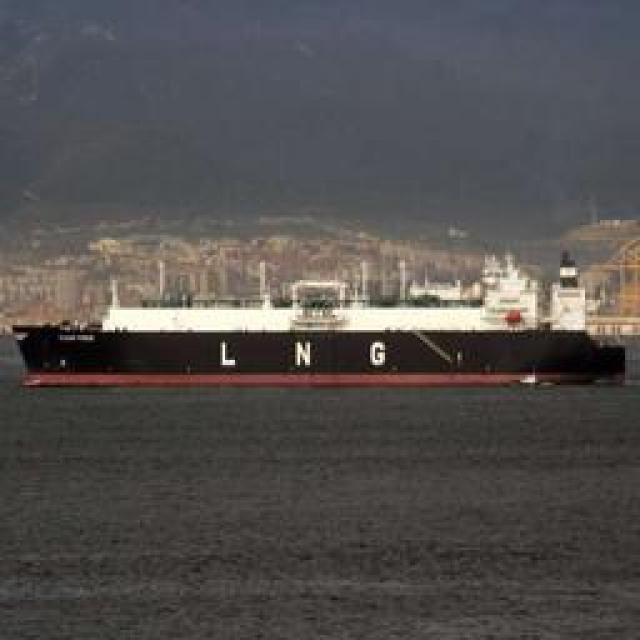CIV_Ship: (18, 288, 632, 378)
